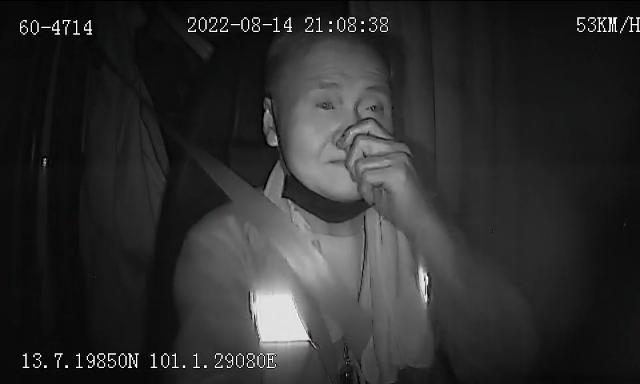SafeDriving: (310, 88, 343, 116)
Seatbelt: (175, 134, 378, 364)
